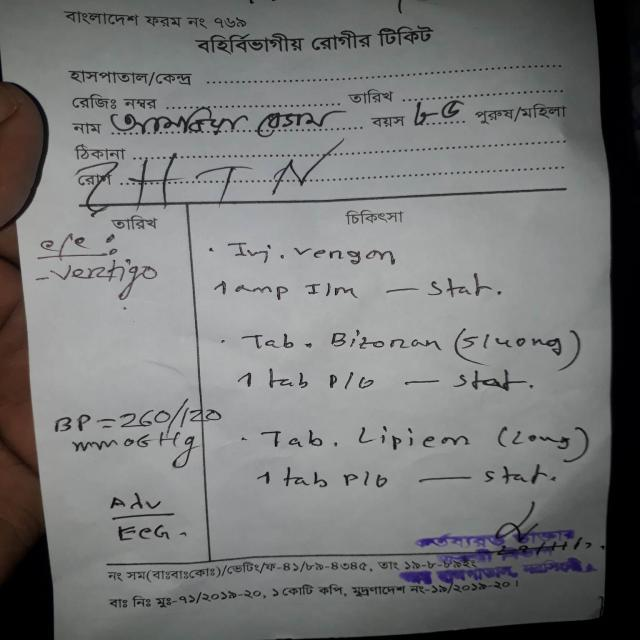Bizoran: (322, 324, 450, 357)
Lipicon: (352, 418, 479, 455)
Vergon: (290, 241, 401, 269)
